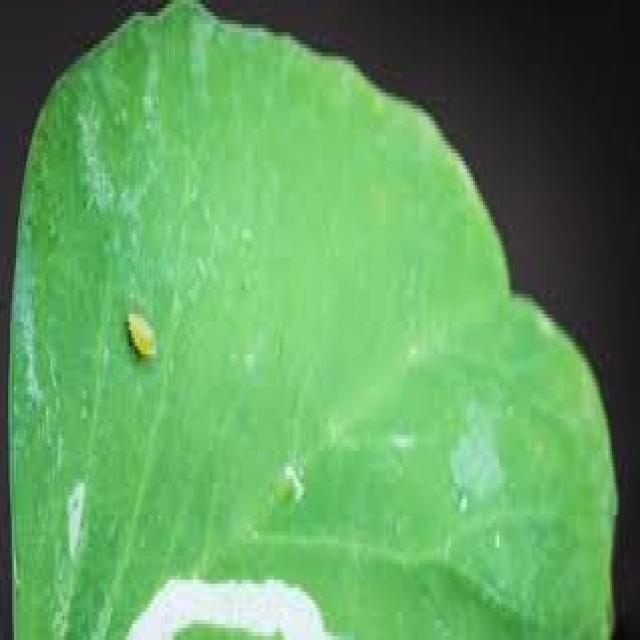aphid: (119, 282, 165, 394), (485, 511, 505, 564), (449, 479, 471, 523)
